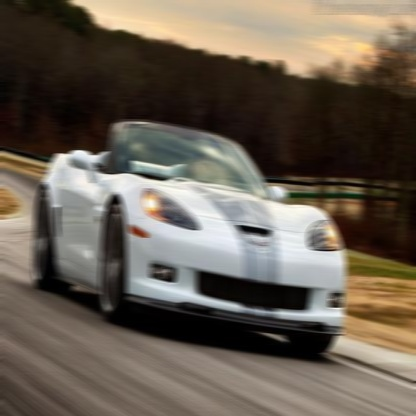Vehicle: (33, 119, 345, 358)
